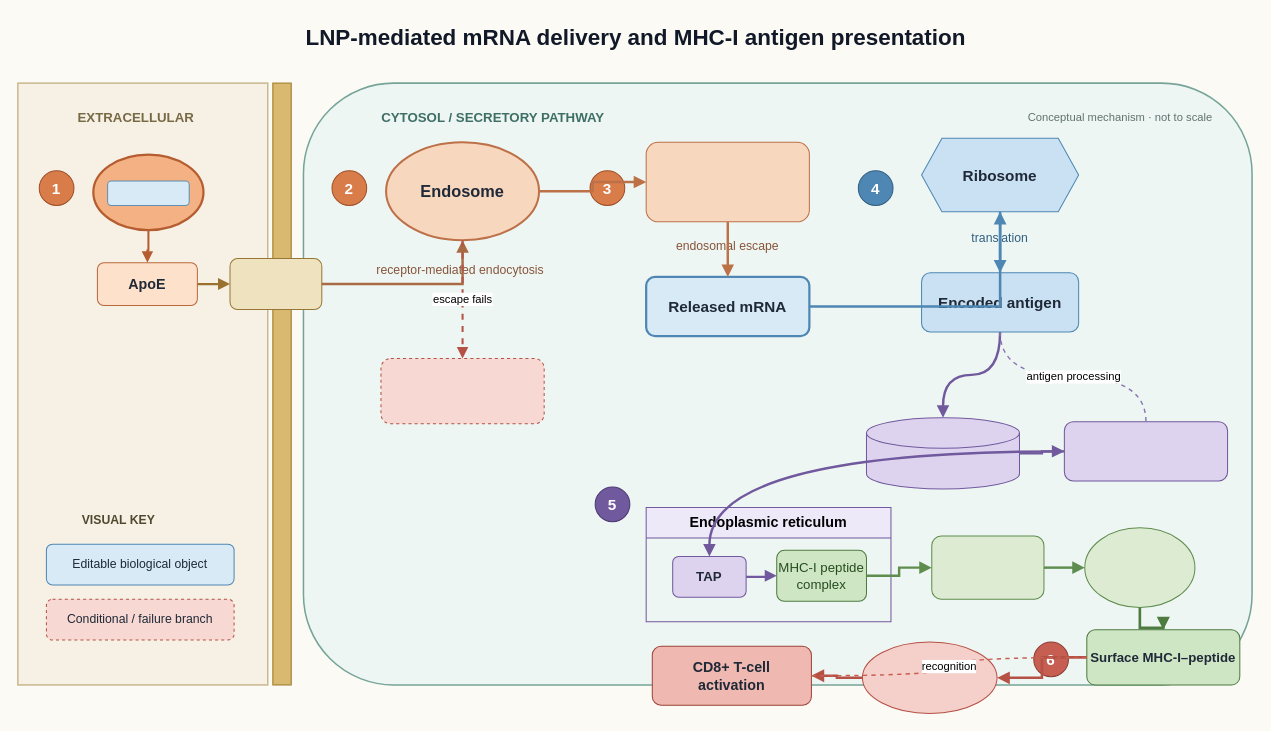
This 1271x731 diagram has some shape labels left out. Each missing label, with the centre of its shape:
Antigenic peptides: the point at 1145,451
CD8+ T cell: the point at 929,677
Golgi: the point at 987,567
LDLR: the point at 275,284
Lysosomal degradation: the point at 462,391
mRNA cargo: the point at 148,193
Proteasome: the point at 942,453
Protonated ionizable lipid: the point at 727,181
Transport vesicle: the point at 1139,567
